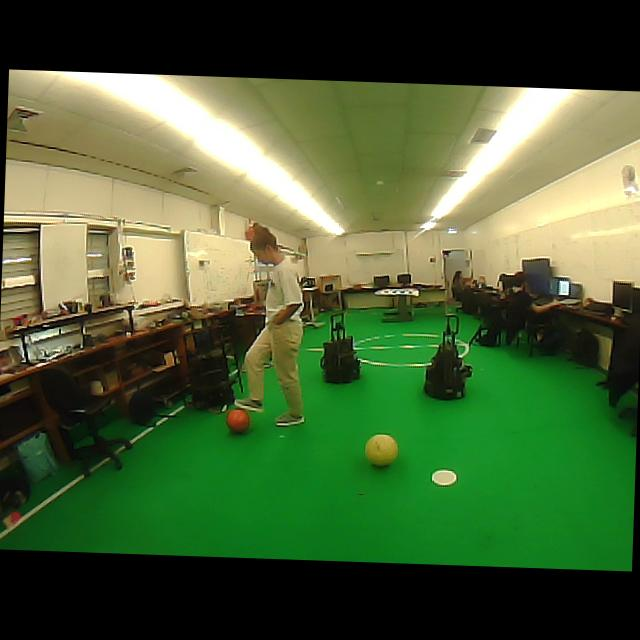ball: (364, 434, 398, 466), (226, 408, 250, 432)
robot: (424, 314, 472, 399), (320, 312, 360, 383), (189, 348, 233, 409)
